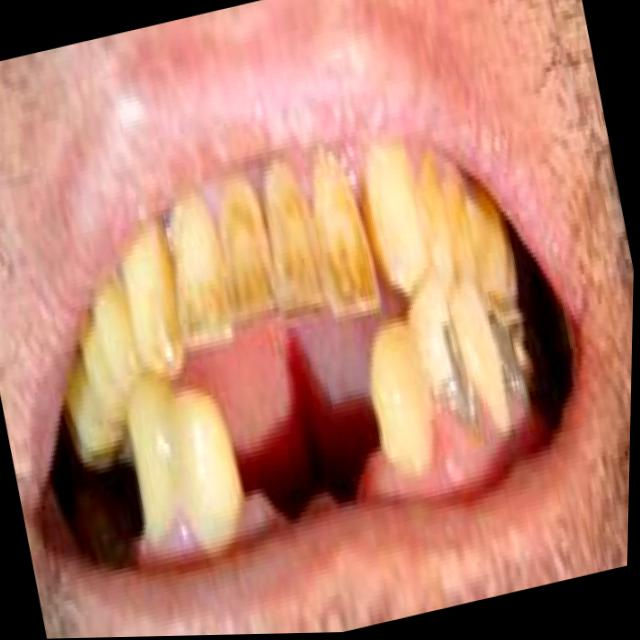calculus: (489, 315, 529, 424), (442, 328, 478, 424)
hypodontia: (204, 334, 376, 552)
tooth-discoloration: (122, 153, 380, 367), (366, 150, 501, 310)
